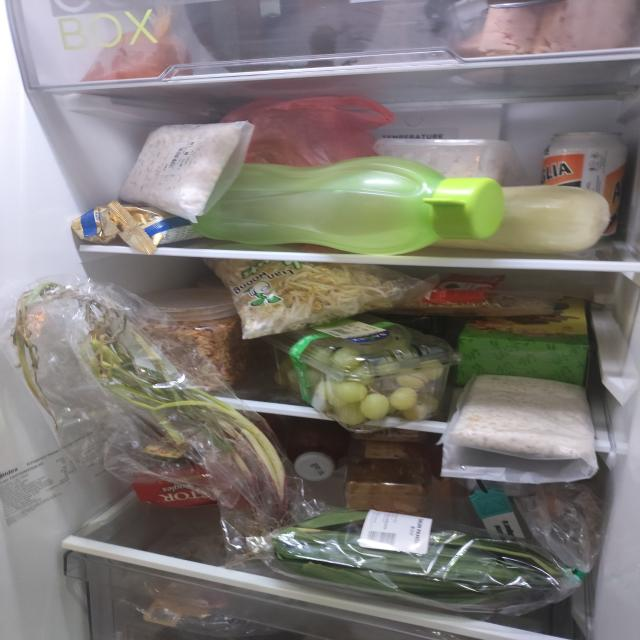bean_sprouts: (203, 257, 401, 340), (273, 330, 444, 426)
corn: (429, 184, 612, 255)
leafy_greens: (270, 505, 566, 610)
spring_onion: (10, 282, 293, 556)
tempeh: (448, 373, 596, 458), (118, 125, 242, 216)
